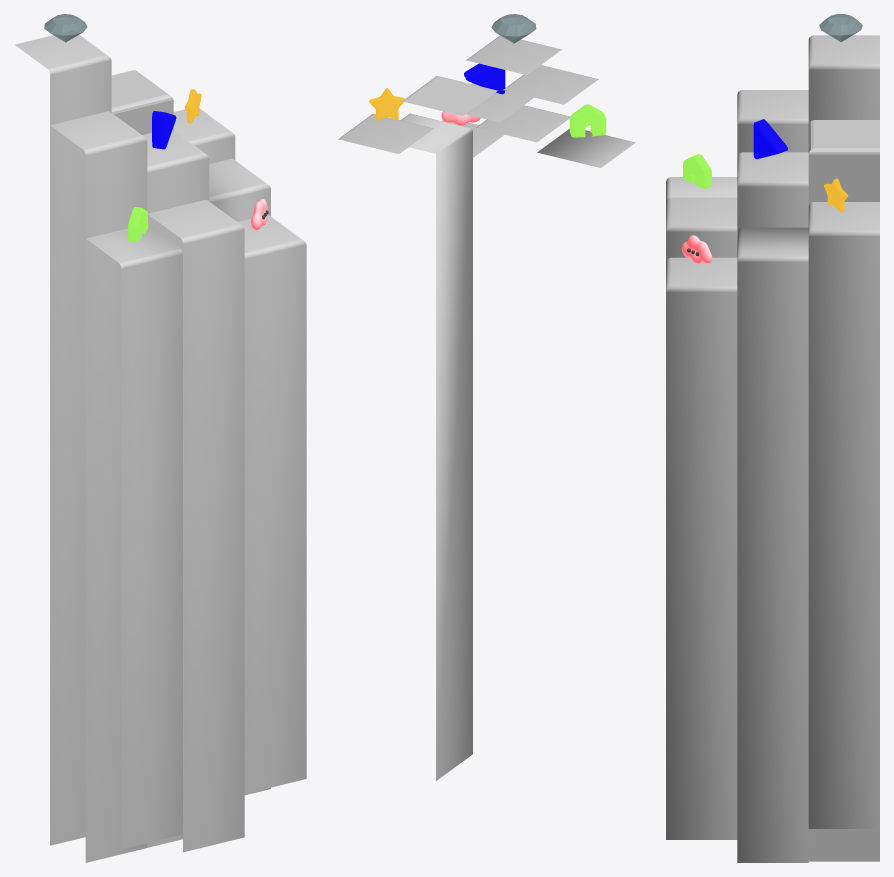
The picture shows the model from 3 angles, left to right: view 1: azimuth 30°, elevation 25°; view 2: azimuth 150°, elevation 25°; view 3: azimuth 270°, elevation 25°; orthographic projection. The views are drawn at different scales.
Parts seen in each view (by area): view 1: Cube.007, Cube.008, Cube.006, Cube, Cube.005, Cube.004, Cube.003, Cube.001, Cube.002, Diamond, starticon, house; view 2: Cube.003, Cube.001, Cube.002, Cube.005, Cube, Cube.008, Cube.007, Cube.004, house, Diamond, starticon, star (+1 smaller); view 3: Cube.003, Cube.002, Cube.006, Cube.001, Cube, Cube.004, Cube.007, Cube.005, Cube.008, starticon, Diamond, house (+2 smaller).
Part boxes in pixels (x1,y1,x2,y2): Cube.007: (148, 200, 244, 852); Cube.008: (86, 224, 182, 849); Cube.006: (237, 215, 306, 793); Cube: (15, 34, 111, 845); Cube.005: (50, 111, 147, 862); Cube.004: (142, 130, 209, 847); Cube.003: (209, 158, 270, 795); Cube.001: (111, 70, 173, 134); Cube.002: (173, 109, 235, 163); Diamond: (44, 14, 87, 42); starticon: (152, 111, 176, 149); house: (128, 207, 148, 242); Cube.003: (401, 113, 472, 780); Cube.001: (402, 76, 498, 115); Cube.002: (338, 113, 433, 153); Cube.005: (503, 65, 598, 104); Cube: (466, 35, 562, 74); Cube.008: (537, 129, 635, 167); Cube.007: (476, 105, 570, 142); Cube.004: (466, 83, 533, 122); house: (569, 104, 606, 137); Diamond: (491, 14, 536, 43); starticon: (464, 63, 505, 94); star: (369, 88, 404, 120); Cube.003: (737, 227, 808, 862); Cube.002: (808, 202, 879, 828); Cube.006: (666, 257, 737, 826); Cube.001: (808, 120, 879, 861); Cube: (808, 35, 879, 123); Cube.004: (737, 152, 808, 231); Cube.007: (666, 197, 737, 839); Cube.005: (737, 90, 808, 155); Cube.008: (666, 177, 737, 201); starticon: (753, 119, 787, 159); Diamond: (819, 14, 862, 41); house: (683, 154, 711, 188).
Size of the model in its own units: 60 by 250 by 60.
